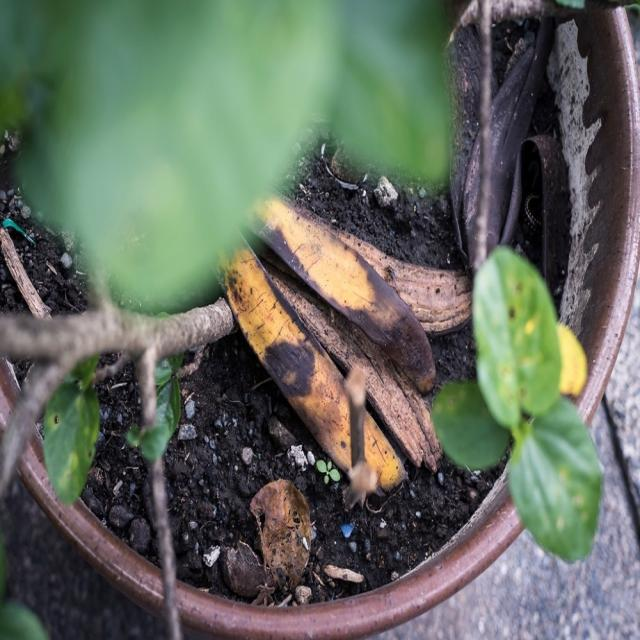Cascara de banano: (221, 205, 444, 499)
